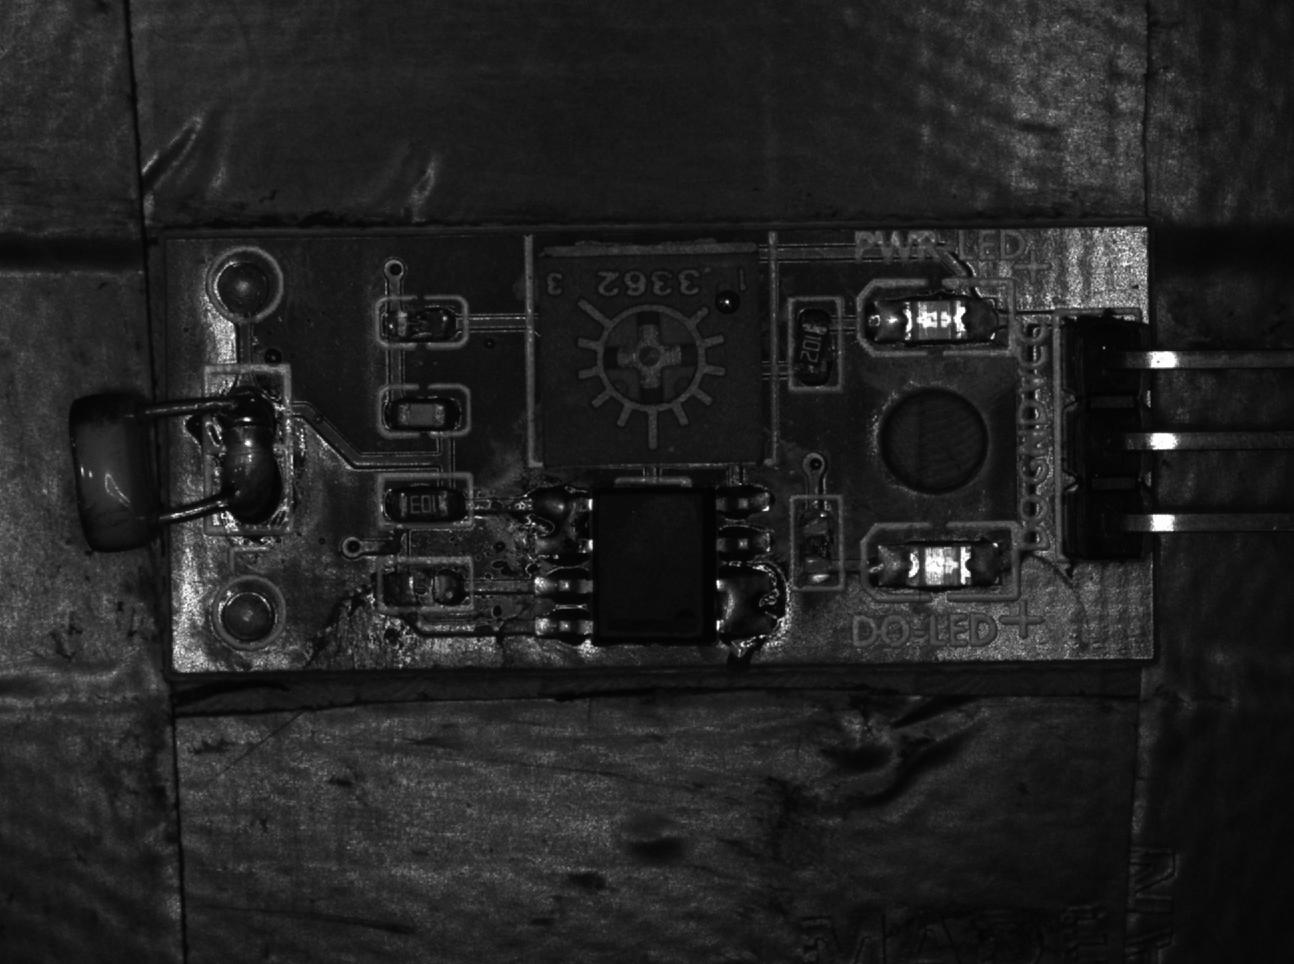bridge: (206, 364, 290, 533), (716, 561, 783, 645), (525, 482, 590, 562)
lifted: (791, 297, 841, 391)
miss: (790, 495, 844, 594), (379, 559, 470, 615), (378, 298, 469, 348)
ok: (378, 466, 473, 530), (380, 386, 471, 440)
